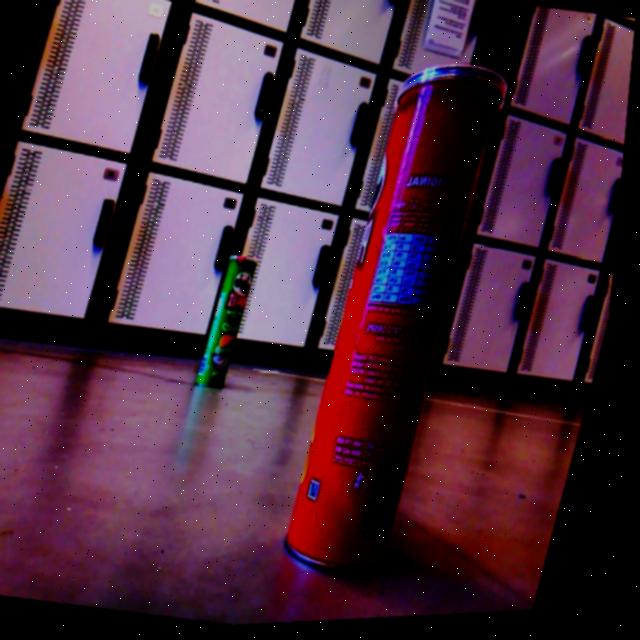greenpringles: (186, 226, 286, 404)
redpringles: (263, 34, 538, 606)
